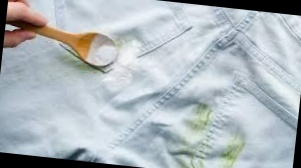earth: (176, 140, 208, 168), (221, 136, 246, 165), (195, 105, 210, 132)
